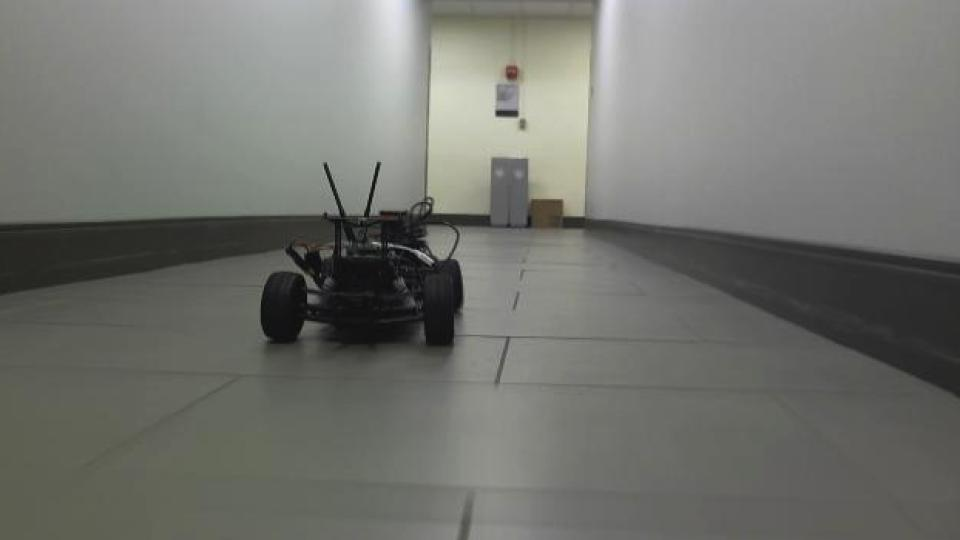car: (256, 159, 466, 350)
